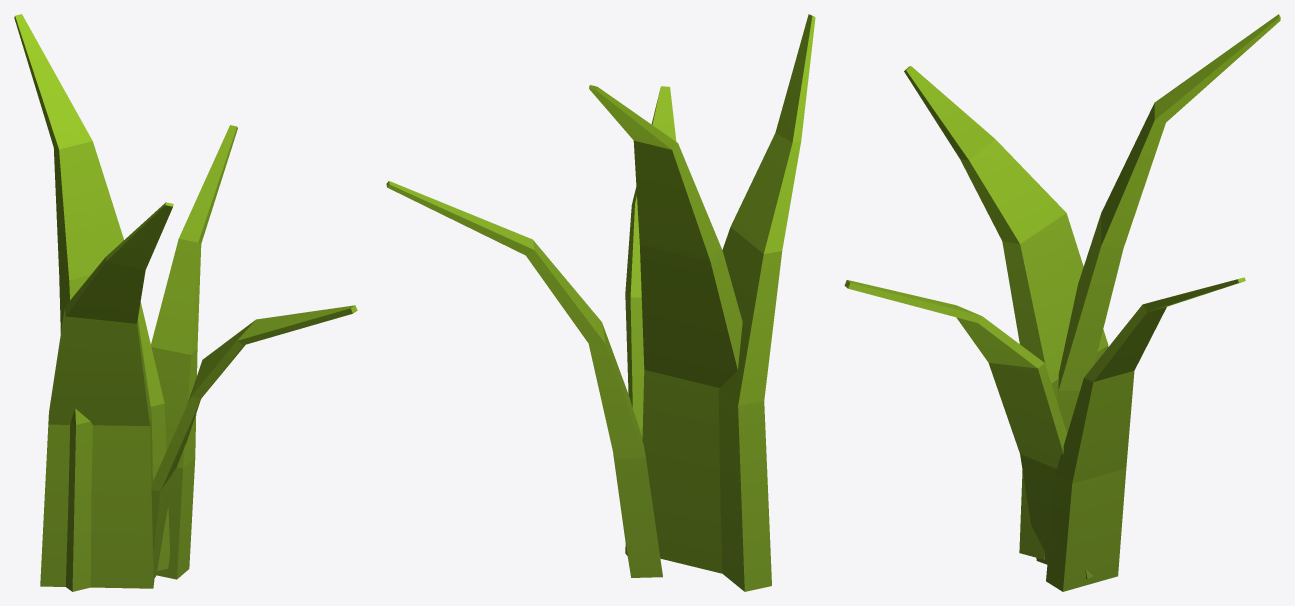
The model's file is grass_6.fbx.
The picture shows the model from 3 angles, left to right: view 1: azimuth 30°, elevation 25°; view 2: azimuth 150°, elevation 25°; view 3: azimuth 270°, elevation 25°; orthographic projection. The views are drawn at different scales.
Parts seen in each view (by area): view 1: grass 6; view 2: grass 6; view 3: grass 6.
Part boxes in pixels (x1,y1,x2,y2): grass 6: [14, 14, 357, 591]; grass 6: [386, 14, 815, 591]; grass 6: [844, 14, 1280, 591].
Bounding box in the file's own units: 0.7065 × 0.5438 × 0.9631.
